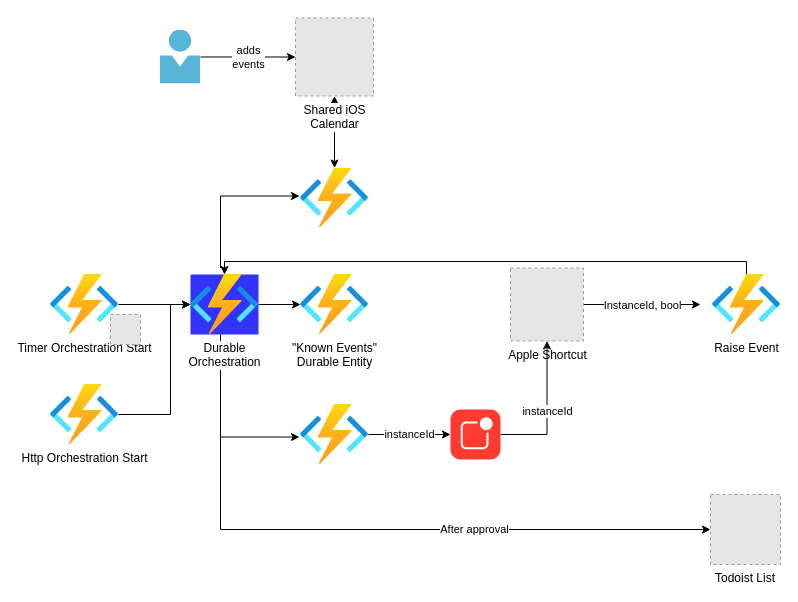
This 798x602 diagram has some shape labels left out. Grey dashed boxes stand in for pictures. The centre of each missing label's shape, as x and y in pixels:
GetCalendarAsync: [334,198]
Prowl iOS Popup Message: [475,434]
SendProwlMessage: [334,434]
User: [180,57]
